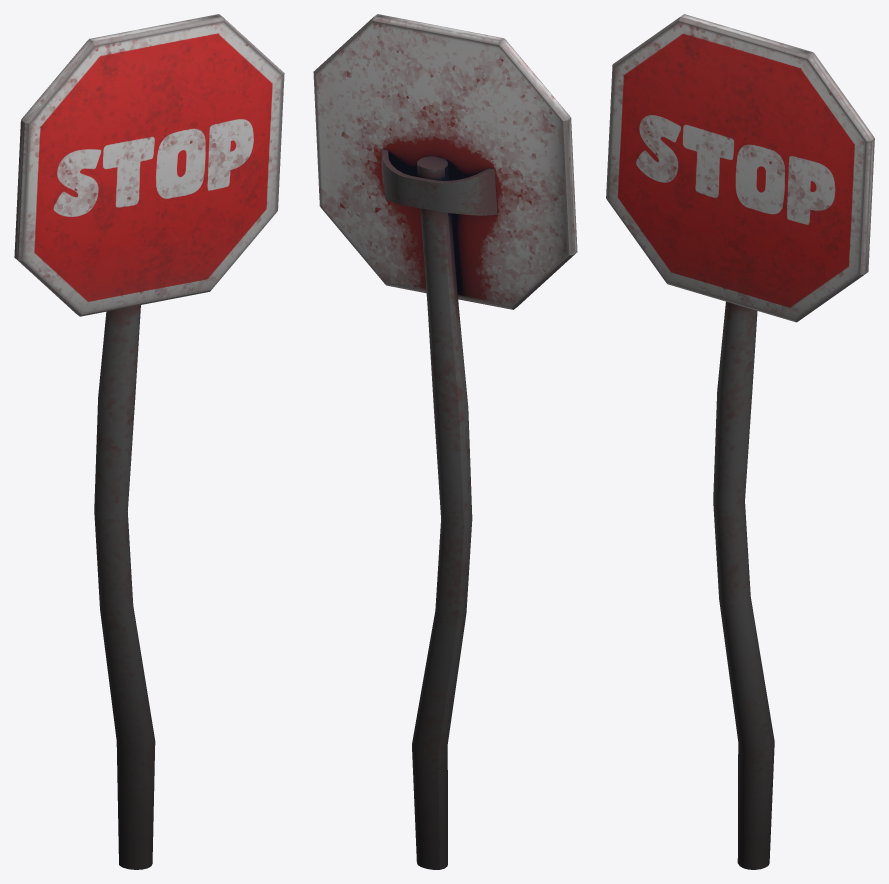
Rendered from Prop_StopSign.fbx.
3 views of the same model, side by side, from view 1: azimuth 30°, elevation 25°; view 2: azimuth 150°, elevation 25°; view 3: azimuth 330°, elevation 25° (orthographic). The views are drawn at different scales.
Visible parts, largest first — view 1: SM_Prop_StopSign; view 2: SM_Prop_StopSign; view 3: SM_Prop_StopSign.
Part boxes in pixels (x1,y1,x2,y2): SM_Prop_StopSign: [14, 14, 284, 869]; SM_Prop_StopSign: [313, 14, 577, 869]; SM_Prop_StopSign: [606, 14, 874, 869].
Size of the model in its own units: 70.82 by 215 by 13.51.
1 material, 1 textured.
